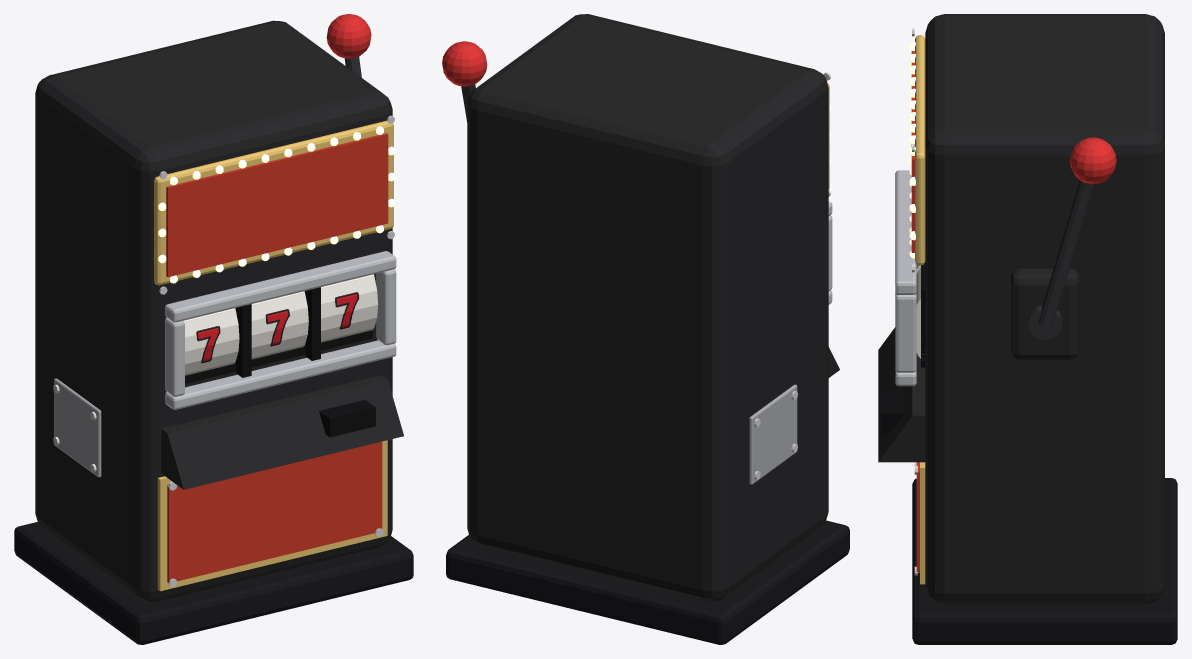
The model's file is slot_machine_tier2.glb.
3 renders of one model, left to right at view 1: azimuth 30°, elevation 25°; view 2: azimuth 150°, elevation 25°; view 3: azimuth 270°, elevation 25°, orthographic. The views are drawn at different scales.
Visible parts, largest first — view 1: Body, Header, Reel_M, Reel_R, Reel_L, Lever; view 2: Body, Lever; view 3: Body, Lever, Header.
Boxes of the visible parts, left/top/right/bottom form: Body: left=14, top=20, right=413, bottom=644; Header: left=154, top=115, right=395, bottom=294; Reel_M: left=251, top=291, right=308, bottom=359; Reel_R: left=321, top=274, right=378, bottom=342; Reel_L: left=183, top=308, right=239, bottom=375; Lever: left=326, top=14, right=371, bottom=77; Body: left=446, top=14, right=849, bottom=644; Lever: left=442, top=41, right=487, bottom=122; Body: left=878, top=14, right=1177, bottom=644; Lever: left=1028, top=137, right=1116, bottom=340; Header: left=909, top=28, right=925, bottom=272.
Size of the model in its own units: 0.89 by 1.34 by 0.7.
Materials: 12 (1 with a texture image).
